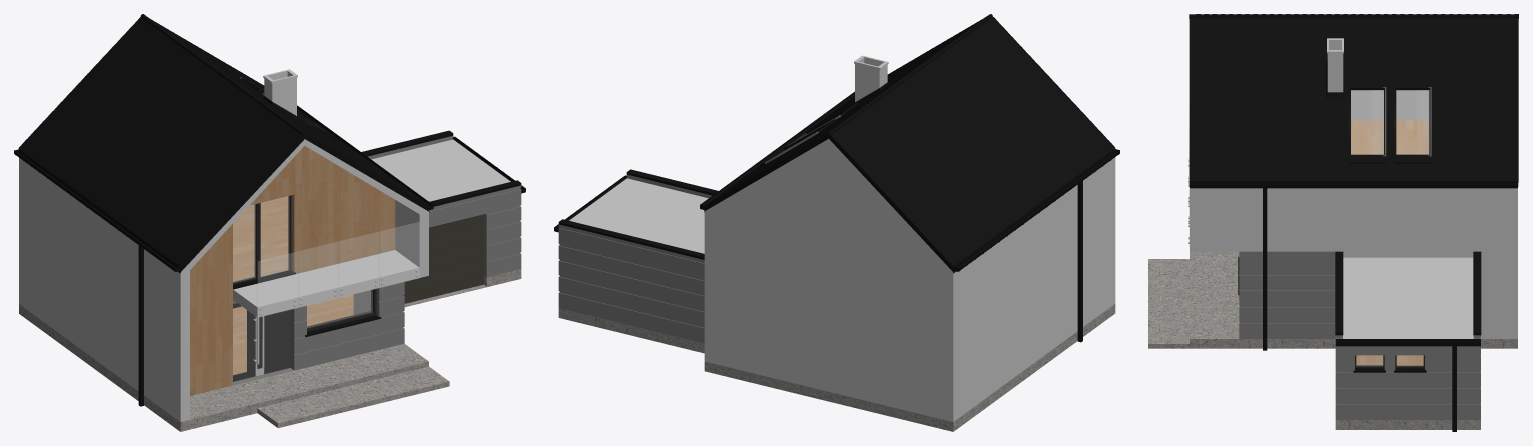
Rendered from Maison_3UDIM.gltf.
The picture shows the model from 3 angles, left to right: view 1: azimuth 30°, elevation 25°; view 2: azimuth 150°, elevation 25°; view 3: azimuth 270°, elevation 25°; orthographic projection.
Visible parts, largest first — view 1: maison_blanc, tuiles_toit_fake, parquet_facade, marches_marbre, maison_gris, garage_porte, parquet_interieur_etage, Porte_rdc4, polySurface10, polySurface13, polySurface12, polySurface11 (+15 smaller); view 2: maison_blanc, tuiles_toit_fake, maison_gris, marches_marbre, polySurface79, garage_couvertines, Cheminee, tuiles_side, toit_side, tuiles_top, polySurface78, polySurface75; view 3: tuiles_toit_fake, maison_blanc, maison_gris, marches_marbre, polySurface75, parquet_interieur_etage, Vasisdas2, Vasisdas3, interieur_etage, garage_couvertines, tuiles_top, polySurface74 (+7 smaller).
Part boxes in pixels (left/top/right/bottom): maison_blanc: left=19, top=139, right=510, bottom=421; tuiles_toit_fake: left=19, top=18, right=422, bottom=266; parquet_facade: left=190, top=146, right=395, bottom=395; marches_marbre: left=19, top=269, right=521, bottom=431; maison_gris: left=233, top=136, right=521, bottom=385; garage_porte: left=403, top=214, right=483, bottom=303; parquet_interieur_etage: left=233, top=196, right=288, bottom=281; Porte_rdc4: left=233, top=303, right=290, bottom=381; polySurface10: left=379, top=222, right=419, bottom=287; polySurface13: left=298, top=242, right=338, bottom=307; polySurface12: left=339, top=232, right=378, bottom=297; polySurface11: left=258, top=252, right=297, bottom=317; maison_blanc: left=569, top=139, right=1115, bottom=421; tuiles_toit_fake: left=711, top=17, right=1114, bottom=265; maison_gris: left=558, top=174, right=712, bottom=343; marches_marbre: left=558, top=304, right=1115, bottom=431; polySurface79: left=953, top=148, right=1119, bottom=273; garage_couvertines: left=558, top=169, right=718, bottom=259; Cheminee: left=854, top=55, right=888, bottom=101; tuiles_side: left=704, top=16, right=1114, bottom=267; toit_side: left=704, top=134, right=953, bottom=271; tuiles_top: left=826, top=14, right=992, bottom=136; polySurface78: left=1077, top=181, right=1082, bottom=342; polySurface75: left=700, top=91, right=854, bottom=212; tuiles_toit_fake: left=1190, top=17, right=1517, bottom=180; maison_blanc: left=1190, top=188, right=1517, bottom=338; maison_gris: left=1239, top=251, right=1480, bottom=419; marches_marbre: left=1148, top=251, right=1517, bottom=429; polySurface75: left=1190, top=181, right=1517, bottom=188; parquet_interieur_etage: left=1351, top=120, right=1429, bottom=154; Vasisdas2: left=1396, top=90, right=1429, bottom=154; Vasisdas3: left=1351, top=90, right=1383, bottom=154; interieur_etage: left=1351, top=90, right=1429, bottom=120; garage_couvertines: left=1335, top=251, right=1481, bottom=335; tuiles_top: left=1189, top=14, right=1518, bottom=18; polySurface74: left=1335, top=339, right=1480, bottom=346.
Bounding box in the file's own units: 564 × 343 × 422.
Materials: 3 (3 with a texture image).
